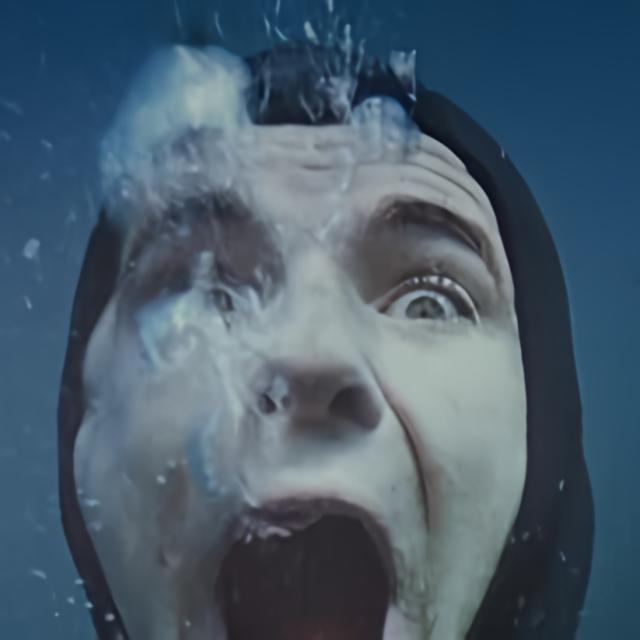fear: (70, 119, 531, 640)
